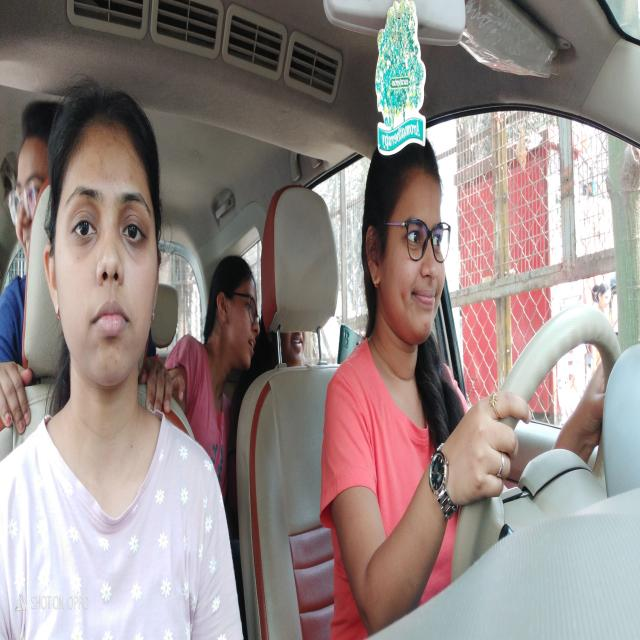person: (44, 82, 165, 386), (364, 126, 452, 364), (200, 253, 263, 400), (3, 98, 48, 245)
